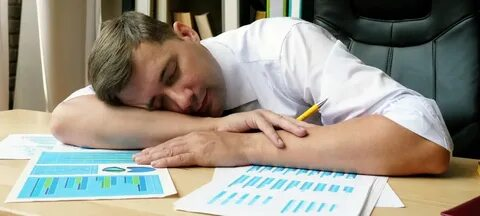sleep: (48, 9, 454, 176)
